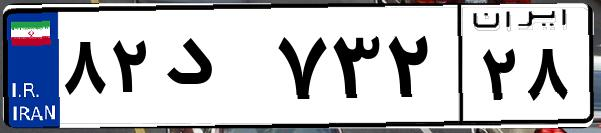2: (385, 28, 445, 110), (475, 38, 525, 113), (110, 28, 158, 98)
3: (330, 28, 385, 110)
7: (270, 28, 330, 110)
8: (57, 26, 110, 100), (525, 38, 570, 115)
د: (158, 20, 270, 120)
